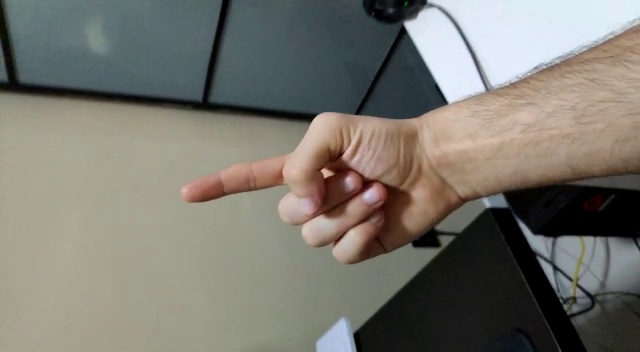One: (175, 106, 411, 278)
